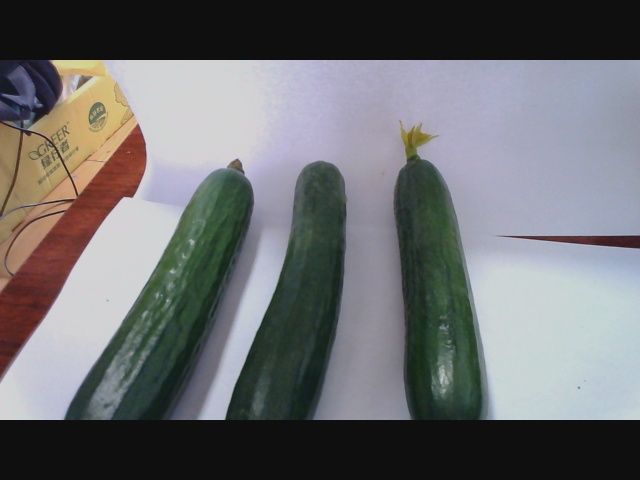cucumber: (77, 143, 360, 420), (387, 126, 495, 417)
